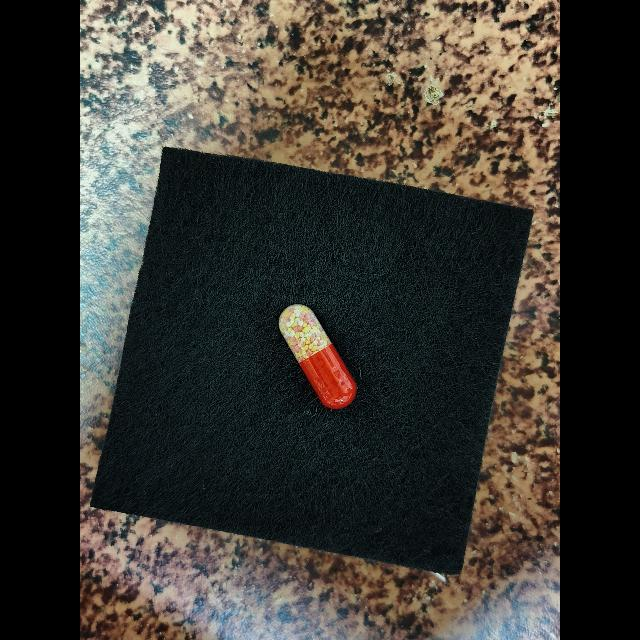Intact Capsule: (278, 304, 357, 409)
